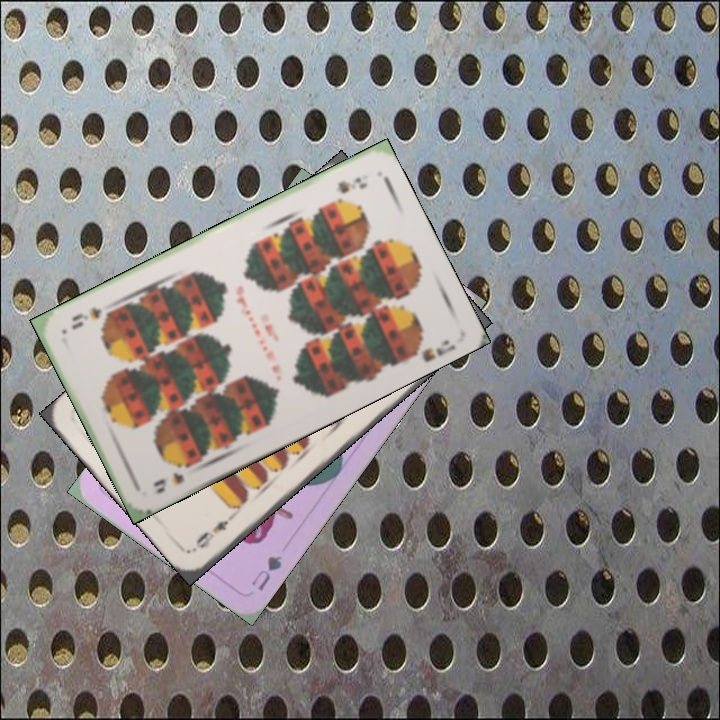E9: (191, 508, 239, 552)
GU: (247, 551, 285, 594)
S9: (149, 457, 197, 497), (333, 173, 369, 196)
